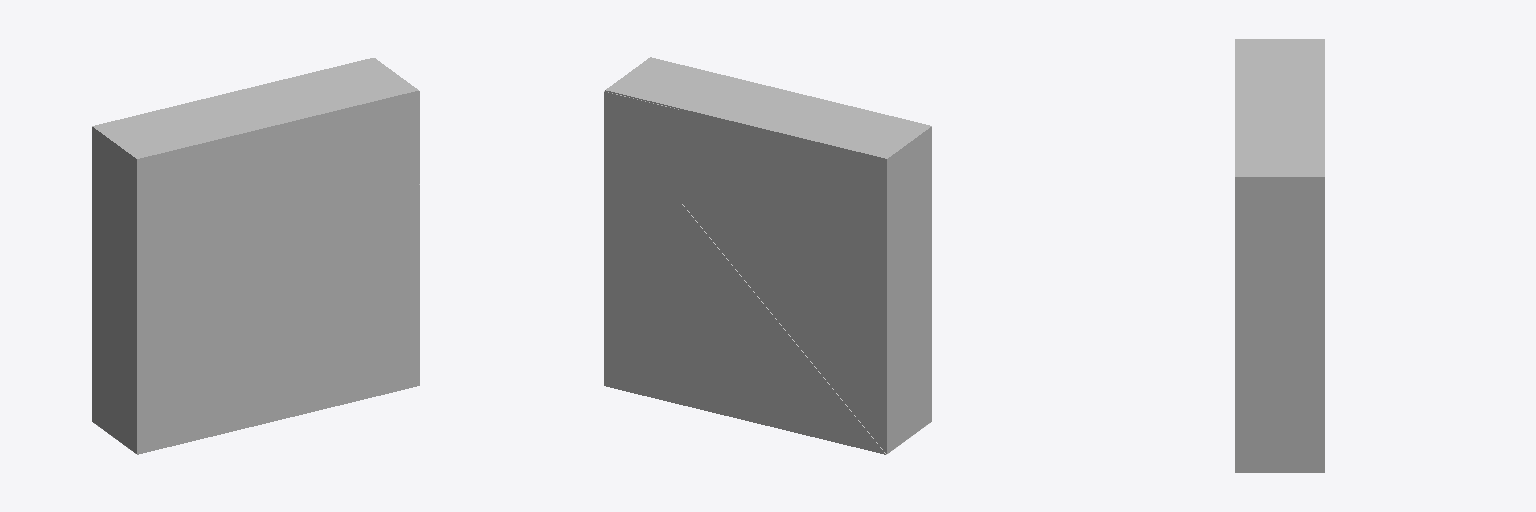
3 views of the same model, side by side, from view 1: azimuth 30°, elevation 25°; view 2: azimuth 150°, elevation 25°; view 3: azimuth 270°, elevation 25° (orthographic).
Visible parts, largest first — view 1: HITBOX_MODEL_Cube.004; view 2: HITBOX_MODEL_Cube.004, OBJECT_Cube, HITBOX_OBJECT_2_Cube.003; view 3: OBJECT_Cube, HITBOX_MODEL_Cube.004.
Boxes of the visible parts, box(x1,y1,x2,y2) form: HITBOX_MODEL_Cube.004: box(92, 58, 418, 453); HITBOX_MODEL_Cube.004: box(605, 57, 931, 453); OBJECT_Cube: box(604, 91, 910, 454); HITBOX_OBJECT_2_Cube.003: box(605, 98, 681, 202); OBJECT_Cube: box(1235, 178, 1324, 472); HITBOX_MODEL_Cube.004: box(1235, 39, 1324, 177).
Size of the model in its own units: 7.25 by 7.23 by 2.01.